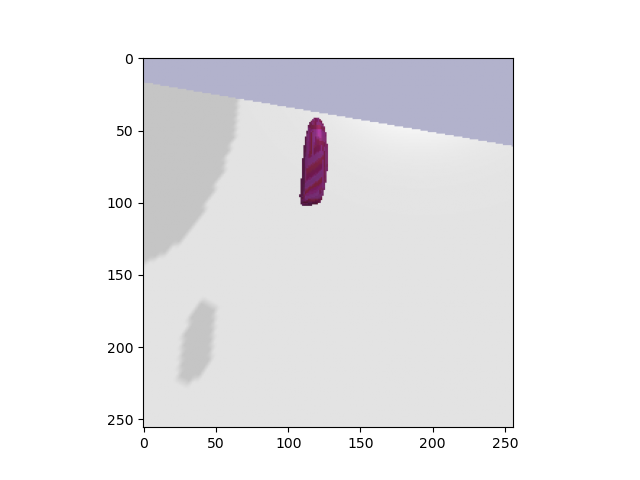v249b387_105: (297, 113, 342, 215)
